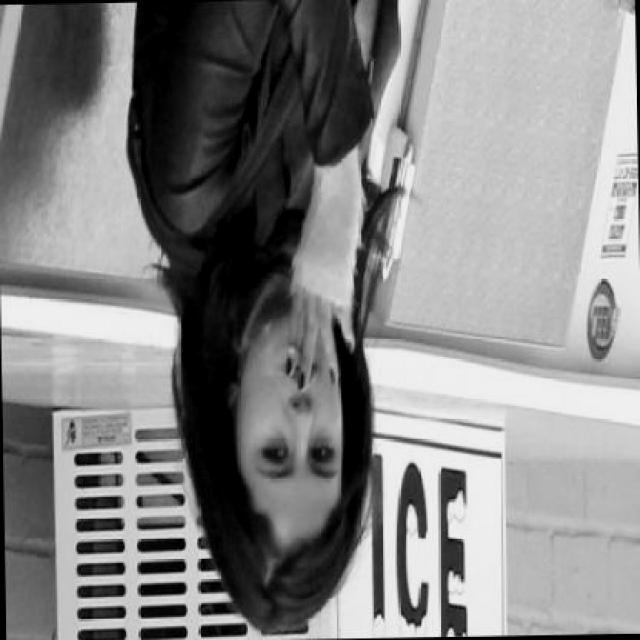smoke: (286, 342, 305, 368)
